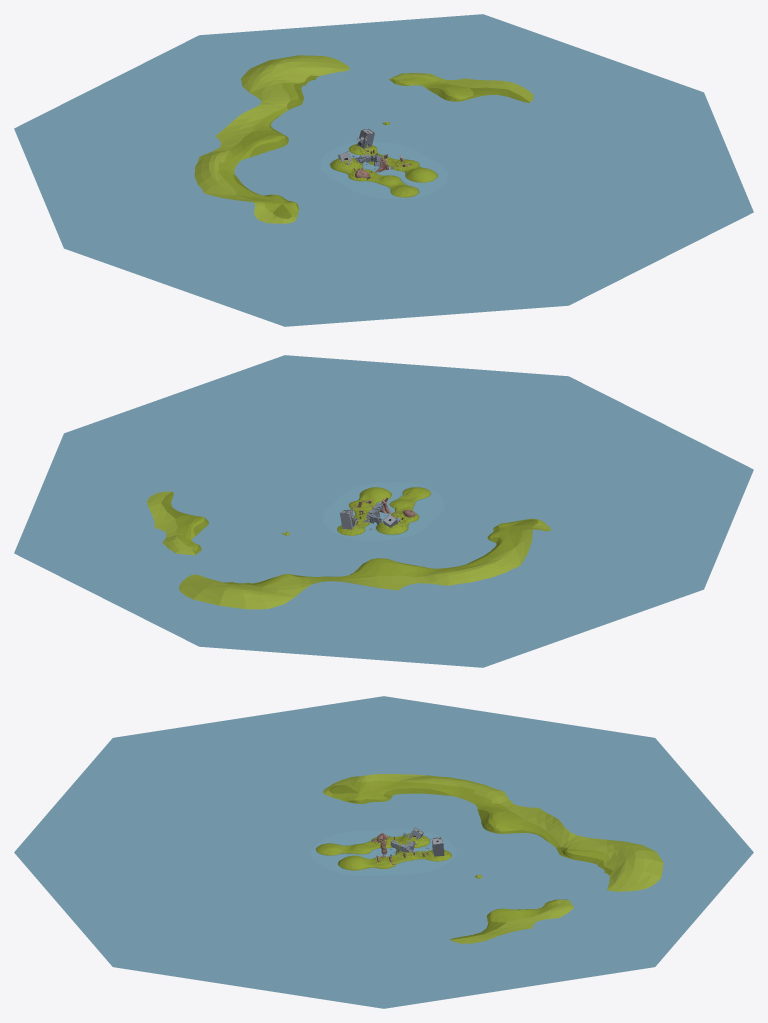
File: narrowHills.glb
The picture shows the model from 3 angles, top to bottom: view 1: azimuth 30°, elevation 25°; view 2: azimuth 150°, elevation 25°; view 3: azimuth 270°, elevation 25°; orthographic projection.
Visible parts, largest first — view 1: Plane, Plane.419, floor.002, floor; view 2: Plane, Plane.419, floor.002, floor; view 3: Plane, Plane.419, floor.002, floor.
Part boxes in pixels (x1,y1,x2,y2): Plane: (14, 14, 753, 326); Plane.419: (194, 55, 533, 223); floor.002: (366, 159, 437, 197); floor: (330, 144, 399, 181); Plane: (14, 355, 753, 667); Plane.419: (147, 491, 550, 609); floor.002: (348, 487, 430, 511); floor: (337, 509, 419, 535); Plane: (14, 696, 753, 1008); Plane.419: (323, 774, 663, 943); floor.002: (316, 840, 396, 870); floor: (371, 834, 451, 863).
Size of what is drawn, in the model's own units: 919 by 36.18 by 919.
